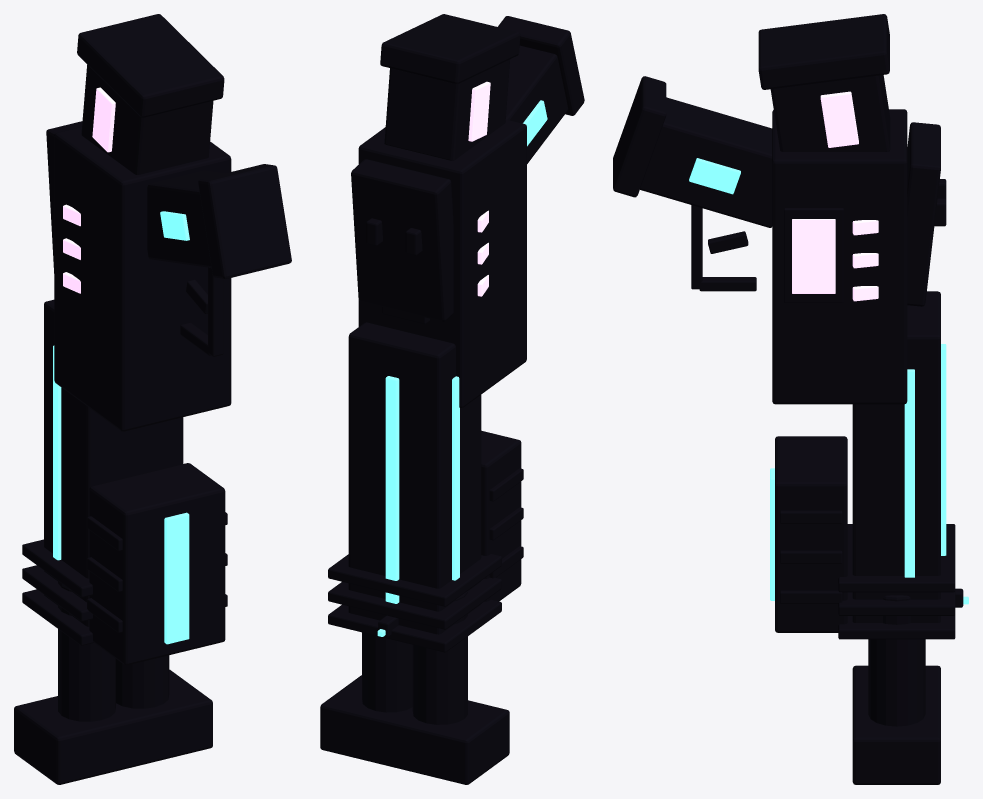
Rendered from CyberScatterShotgun.fbx.
3 views of the same model, side by side, from view 1: azimuth 30°, elevation 25°; view 2: azimuth 150°, elevation 25°; view 3: azimuth 270°, elevation 25° (orthographic). The views are drawn at different scales.
Parts seen in each view (by area): view 1: CSG_main rectangular receiver, CSG_pump handguard, CSG_wide muzzle splitter brake, CSG_upper barrel housing, CSG_stock shoulder pad, CSG_grip base plate, CSG_twin scatter barrels, CSG_stock stub, CSG_barrel cooling fins, CSG_pistol grip, CSG_cyan pump charge strip, CSG_trigger guard assembly (+6 smaller); view 2: CSG_upper barrel housing, CSG_main rectangular receiver, CSG_receiver top spine plate, CSG_wide muzzle splitter brake, CSG_barrel cooling fins, CSG_stock stub, CSG_twin scatter barrels, CSG_stock shoulder pad, CSG_pump handguard, CSG_pistol grip, CSG_cyan top charge channel, CSG_grip base plate (+6 smaller); view 3: CSG_main rectangular receiver, CSG_upper barrel housing, CSG_pump handguard, CSG_pistol grip, CSG_stock shoulder pad, CSG_wide muzzle splitter brake, CSG_barrel cooling fins, CSG_stock stub, CSG_twin scatter barrels, CSG_receiver top spine plate, CSG_grip base plate, CSG_magenta loading port (+10 smaller).
Part boxes in pixels (<box>): CSG_main rectangular receiver: <box>54,127,231,431</box>; CSG_pump handguard: <box>89,463,225,665</box>; CSG_wide muzzle splitter brake: <box>14,669,212,784</box>; CSG_upper barrel housing: <box>44,299,183,626</box>; CSG_stock shoulder pad: <box>77,14,224,117</box>; CSG_grip base plate: <box>198,164,291,278</box>; CSG_twin scatter barrels: <box>58,581,169,721</box>; CSG_stock stub: <box>81,64,213,174</box>; CSG_barrel cooling fins: <box>22,539,93,645</box>; CSG_pistol grip: <box>147,170,224,267</box>; CSG_cyan pump charge strip: <box>164,512,189,644</box>; CSG_trigger guard assembly: <box>180,267,223,356</box>; CSG_upper barrel housing: <box>348,322,481,634</box>; CSG_main rectangular receiver: <box>358,119,526,407</box>; CSG_receiver top spine plate: <box>351,159,453,321</box>; CSG_wide muzzle splitter brake: <box>320,675,509,784</box>; CSG_barrel cooling fins: <box>328,554,501,652</box>; CSG_stock stub: <box>384,59,510,160</box>; CSG_twin scatter barrels: <box>362,591,467,724</box>; CSG_stock shoulder pad: <box>380,14,520,84</box>; CSG_pump handguard: <box>481,430,521,601</box>; CSG_pistol grip: <box>506,45,568,163</box>; CSG_cyan top charge channel: <box>385,376,399,603</box>; CSG_grip base plate: <box>498,16,584,115</box>; CSG_main rectangular receiver: <box>772,109,907,404</box>; CSG_upper barrel housing: <box>852,291,940,622</box>; CSG_pump handguard: <box>775,436,847,632</box>; CSG_pistol grip: <box>640,97,772,227</box>; CSG_stock shoulder pad: <box>758,14,889,89</box>; CSG_wide muzzle splitter brake: <box>852,665,940,784</box>; CSG_barrel cooling fins: <box>838,524,955,639</box>; CSG_stock stub: <box>770,75,890,151</box>; CSG_twin scatter barrels: <box>868,595,925,726</box>; CSG_receiver top spine plate: <box>907,122,940,306</box>; CSG_grip base plate: <box>613,76,666,197</box>; CSG_magenta loading port: <box>792,219,835,293</box>.
Size of the model in its own units: 34 by 153 by 68.48.
